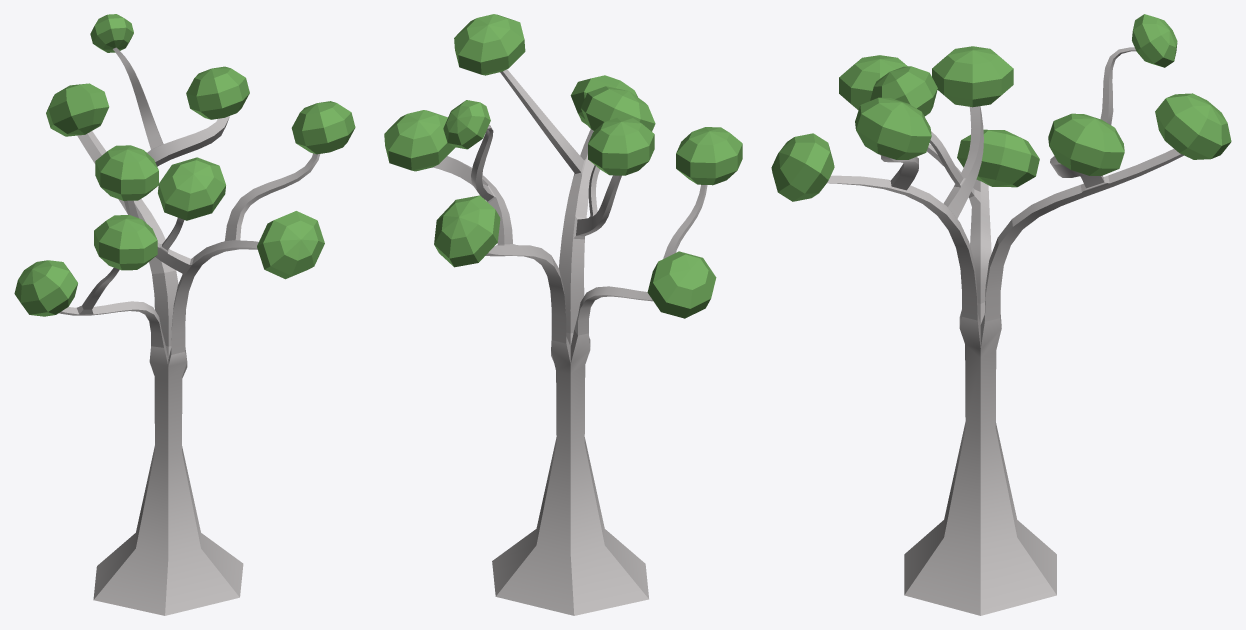
The model's file is Tree 1.fbx.
3 views of the same model, side by side, from view 1: azimuth 30°, elevation 25°; view 2: azimuth 150°, elevation 25°; view 3: azimuth 270°, elevation 25° (orthographic). The views are drawn at different scales.
Visible parts, largest first — view 1: pCylinder1, pSphere8, pSphere9, pSphere1, pSphere2, pSphere4, pSphere3, pSphere6, pSphere7, pSphere5; view 2: pCylinder1, pSphere3, pSphere4, pSphere7, pSphere6, pSphere1, pSphere2, pSphere9, pSphere5, pSphere8; view 3: pCylinder1, pSphere1, pSphere3, pSphere6, pSphere7, pSphere8, pSphere4, pSphere9, pSphere2, pSphere5.
Boxes of the visible parts, x1=… form: pCylinder1: x1=59, y1=47, x2=320, y2=615; pSphere8: x1=257, y1=211, x2=324, y2=279; pSphere9: x1=158, y1=157, x2=225, y2=220; pSphere1: x1=95, y1=145, x2=158, y2=200; pSphere2: x1=94, y1=215, x2=157, y2=270; pSphere4: x1=14, y1=260, x2=77, y2=316; pSphere3: x1=46, y1=83, x2=109, y2=136; pSphere6: x1=186, y1=66, x2=249, y2=119; pSphere7: x1=291, y1=101, x2=355, y2=154; pSphere5: x1=90, y1=14, x2=133, y2=52; pCylinder1: x1=433, y1=69, x2=707, y2=615; pSphere3: x1=434, y1=195, x2=500, y2=267; pSphere4: x1=647, y1=251, x2=716, y2=318; pSphere7: x1=454, y1=14, x2=525, y2=75; pSphere6: x1=384, y1=110, x2=455, y2=171; pSphere1: x1=588, y1=117, x2=654, y2=175; pSphere2: x1=676, y1=127, x2=742, y2=185; pSphere9: x1=581, y1=86, x2=655, y2=131; pSphere5: x1=443, y1=100, x2=490, y2=149; pSphere8: x1=570, y1=75, x2=637, y2=125; pCylinder1: x1=827, y1=47, x2=1183, y2=615; pSphere1: x1=932, y1=46, x2=1013, y2=107; pSphere3: x1=1155, y1=93, x2=1231, y2=159; pSphere6: x1=1048, y1=113, x2=1124, y2=175; pSphere7: x1=855, y1=97, x2=931, y2=159; pSphere8: x1=771, y1=133, x2=834, y2=201; pSphere4: x1=957, y1=129, x2=1039, y2=187; pSphere9: x1=870, y1=66, x2=937, y2=116; pSphere2: x1=839, y1=55, x2=907, y2=110; pSphere5: x1=1132, y1=14, x2=1177, y2=67.
Size of the model in its own units: 20.33 by 34.58 by 25.39.
